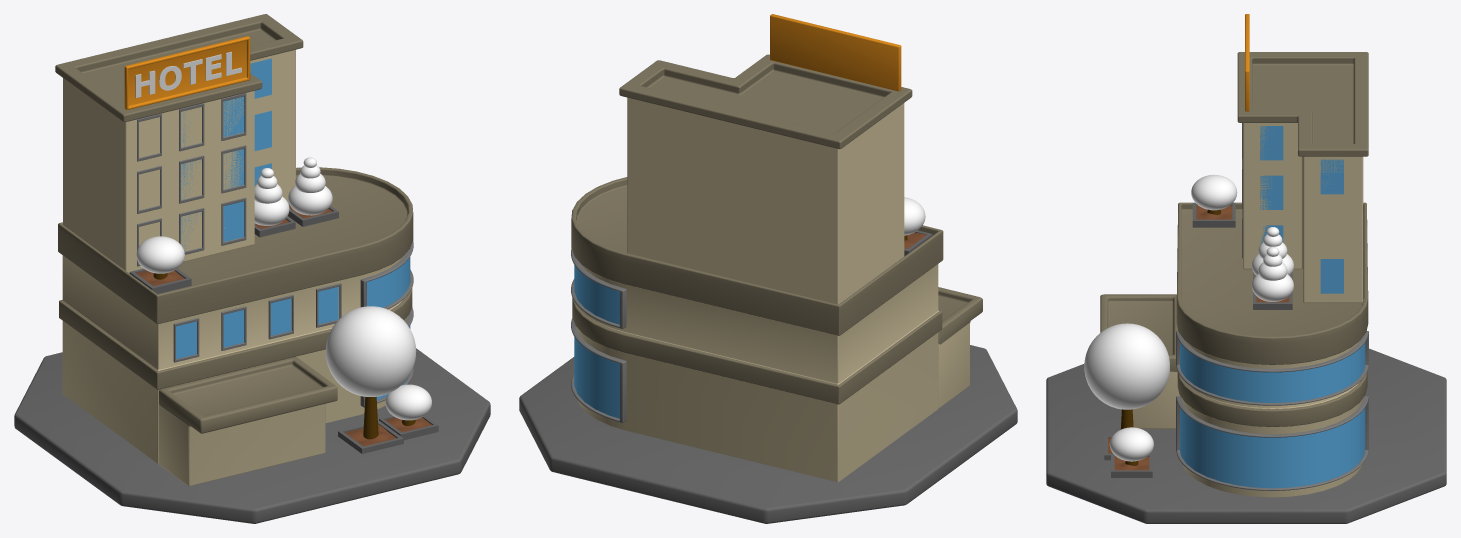
The model's file is hotel_6.glb.
3 views of the same model, side by side, from view 1: azimuth 30°, elevation 25°; view 2: azimuth 150°, elevation 25°; view 3: azimuth 270°, elevation 25° (orthographic). The views are drawn at different scales.
Parts seen in each view (by area): view 1: Cube.080, Cube.081, Cube.208, Cube.079, Sphere.046, Plane.020, Cube.095, Cube.089, Cube.101, Cube.088, Sphere.065, Text.003 (+9 smaller); view 2: Cube.080, Cube.081, Cube.208, Plane.020, Cube.079, Cube.201, Cube.013, Cube.011, Cube.086, Sphere.065; view 3: Cube.208, Cube.081, Cube.080, Cube.201, Sphere.046, Cube.013, Cube.079, Cube.011, Cube.086, Cube.109, Sphere.065, Sphere.051 (+6 smaller).
Part boxes in pixels (left/top/right/bottom): Cube.080: left=58, top=167, right=413, bottom=463; Cube.081: left=55, top=14, right=303, bottom=273; Cube.208: left=14, top=348, right=490, bottom=523; Cube.079: left=159, top=356, right=337, bottom=485; Sphere.046: left=325, top=306, right=416, bottom=396; Plane.020: left=124, top=36, right=250, bottom=109; Cube.095: left=137, top=93, right=246, bottom=266; Cube.089: left=176, top=287, right=338, bottom=358; Cube.101: left=181, top=96, right=244, bottom=250; Cube.088: left=173, top=283, right=341, bottom=362; Sphere.065: left=136, top=236, right=184, bottom=273; Text.003: left=135, top=52, right=241, bottom=97; Cube.080: left=571, top=177, right=943, bottom=482; Cube.081: left=619, top=54, right=912, bottom=304; Cube.208: left=519, top=345, right=1017, bottom=523; Plane.020: left=770, top=14, right=901, bottom=91; Cube.079: left=938, top=287, right=982, bottom=408; Cube.201: left=574, top=337, right=619, bottom=418; Cube.013: left=574, top=265, right=619, bottom=324; Cube.011: left=571, top=318, right=626, bottom=422; Cube.086: left=571, top=249, right=626, bottom=328; Sphere.065: left=904, top=197, right=925, bottom=235; Cube.208: left=1046, top=348, right=1446, bottom=523; Cube.081: left=1237, top=52, right=1368, bottom=303; Cube.080: left=1176, top=202, right=1368, bottom=497; Cube.201: left=1180, top=408, right=1365, bottom=488; Sphere.046: left=1084, top=323, right=1169, bottom=409; Cube.013: left=1180, top=342, right=1365, bottom=402; Cube.079: left=1100, top=294, right=1179, bottom=428; Cube.011: left=1176, top=396, right=1368, bottom=490; Cube.086: left=1176, top=331, right=1368, bottom=405; Cube.109: left=1260, top=126, right=1283, bottom=244; Sphere.065: left=1191, top=174, right=1237, bottom=210; Sphere.051: left=1109, top=427, right=1153, bottom=461.
Size of the model in its own units: 6.94 by 6.92 by 6.85.
